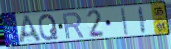2: (85, 9, 106, 40)
A: (18, 14, 44, 44)
I: (137, 6, 148, 35), (120, 6, 130, 37)
Q: (37, 13, 60, 42)
R: (61, 11, 86, 40)
